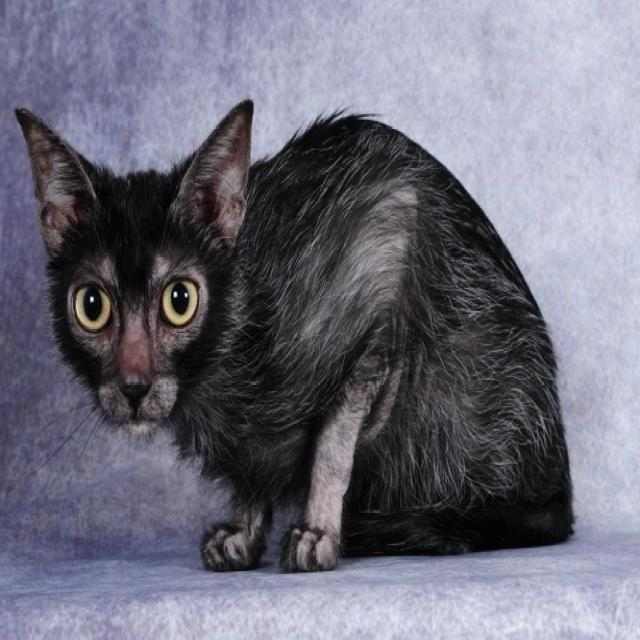Lykoi: (11, 95, 579, 580)
